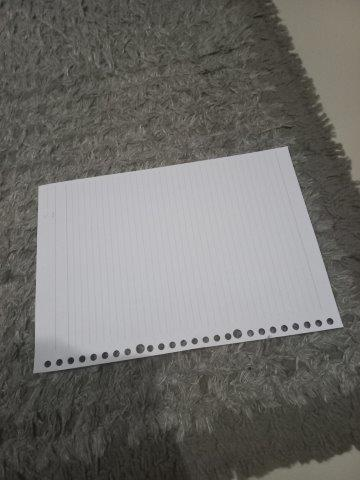kertas: (37, 146, 345, 373)
